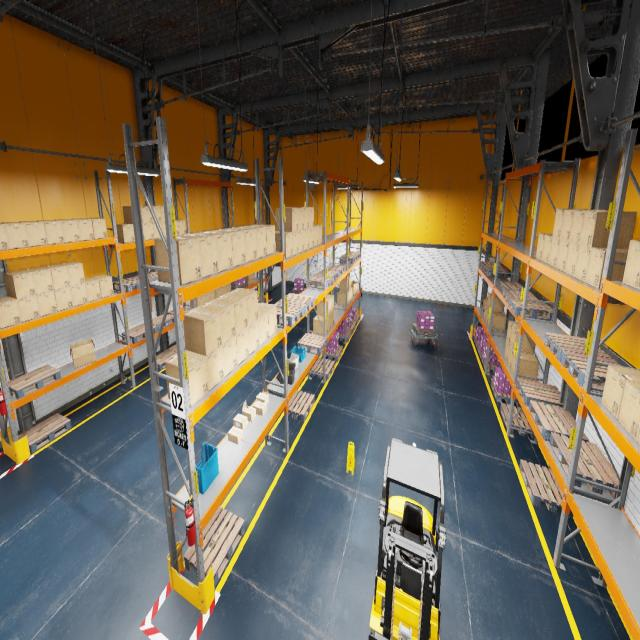box: (164, 350, 208, 407), (154, 236, 202, 285), (601, 365, 640, 420), (580, 210, 636, 248), (183, 306, 222, 356), (177, 233, 218, 278), (585, 247, 628, 289), (199, 300, 236, 344), (195, 231, 233, 272), (560, 209, 604, 241), (214, 293, 248, 334), (618, 381, 640, 442), (211, 228, 246, 266), (570, 210, 608, 244), (552, 209, 592, 239), (228, 287, 258, 326), (226, 227, 256, 262), (237, 226, 266, 258), (4, 270, 36, 299), (622, 239, 640, 290), (511, 351, 539, 382), (24, 266, 54, 294), (206, 346, 224, 391), (0, 222, 29, 249), (249, 224, 275, 254), (70, 338, 96, 368), (17, 221, 47, 247), (42, 264, 70, 290), (510, 325, 535, 354), (58, 261, 85, 286), (222, 335, 238, 377), (0, 296, 21, 328), (258, 303, 277, 337), (38, 220, 64, 244), (17, 295, 40, 322), (574, 245, 590, 282), (276, 207, 298, 232), (55, 220, 80, 242), (90, 275, 114, 297), (37, 290, 57, 316), (236, 327, 249, 365), (565, 242, 579, 277), (85, 218, 107, 239), (73, 218, 94, 240), (275, 231, 292, 258), (54, 287, 73, 311), (289, 207, 309, 229), (536, 233, 552, 260), (556, 239, 569, 272), (70, 283, 88, 306), (248, 319, 259, 355), (85, 278, 101, 302), (122, 206, 143, 223), (258, 310, 268, 345), (488, 312, 506, 331), (116, 224, 135, 242), (549, 237, 560, 267), (487, 293, 504, 312), (506, 321, 520, 344), (313, 315, 328, 336), (542, 234, 552, 264), (242, 400, 256, 421), (228, 426, 243, 444), (486, 308, 502, 324), (317, 298, 331, 316), (0, 223, 9, 250), (233, 414, 248, 429), (253, 400, 267, 416), (140, 205, 152, 222), (337, 290, 349, 306), (143, 223, 154, 240), (190, 295, 204, 308), (175, 219, 186, 235), (339, 277, 351, 291), (314, 224, 322, 244), (256, 392, 269, 404), (326, 294, 334, 313), (292, 231, 298, 256), (153, 222, 162, 238), (152, 206, 161, 222), (298, 230, 304, 253), (504, 340, 510, 362), (298, 208, 304, 230), (342, 290, 351, 304), (508, 345, 513, 370), (245, 273, 255, 285), (304, 228, 309, 251), (309, 227, 314, 248), (351, 281, 358, 295), (482, 296, 488, 312), (214, 287, 222, 298), (203, 292, 210, 304), (314, 226, 318, 246), (309, 207, 313, 227), (160, 206, 165, 221), (175, 220, 179, 236), (209, 290, 215, 300), (162, 222, 166, 236), (331, 310, 334, 328), (328, 314, 331, 332), (142, 223, 145, 240), (226, 282, 231, 292), (484, 305, 487, 321), (222, 285, 226, 295), (637, 432, 640, 444), (351, 287, 352, 300)
forklift: (370, 438, 446, 640)
pallets: (184, 506, 244, 588), (549, 432, 619, 498), (519, 459, 573, 519), (528, 400, 588, 451), (561, 350, 621, 392), (18, 413, 72, 453), (544, 332, 612, 361), (7, 364, 61, 399), (516, 378, 564, 413), (500, 402, 534, 438), (508, 298, 553, 320), (284, 389, 314, 422), (491, 379, 521, 407), (278, 293, 314, 314), (274, 302, 304, 326), (122, 324, 157, 344), (298, 333, 327, 355), (502, 289, 538, 304), (311, 358, 335, 380), (481, 354, 502, 374), (156, 350, 177, 370), (113, 277, 140, 292), (152, 314, 174, 331), (306, 276, 334, 289), (483, 265, 509, 278), (322, 345, 343, 361), (412, 324, 436, 336), (316, 269, 339, 281), (499, 281, 525, 291), (167, 306, 193, 315), (327, 264, 345, 276), (134, 272, 158, 281), (339, 328, 352, 342), (480, 262, 502, 270), (340, 254, 357, 263), (344, 251, 360, 260), (231, 282, 247, 290), (474, 334, 481, 348), (348, 321, 356, 333), (352, 315, 360, 325), (292, 288, 305, 294), (477, 344, 482, 359), (168, 344, 176, 352), (258, 298, 266, 302)
